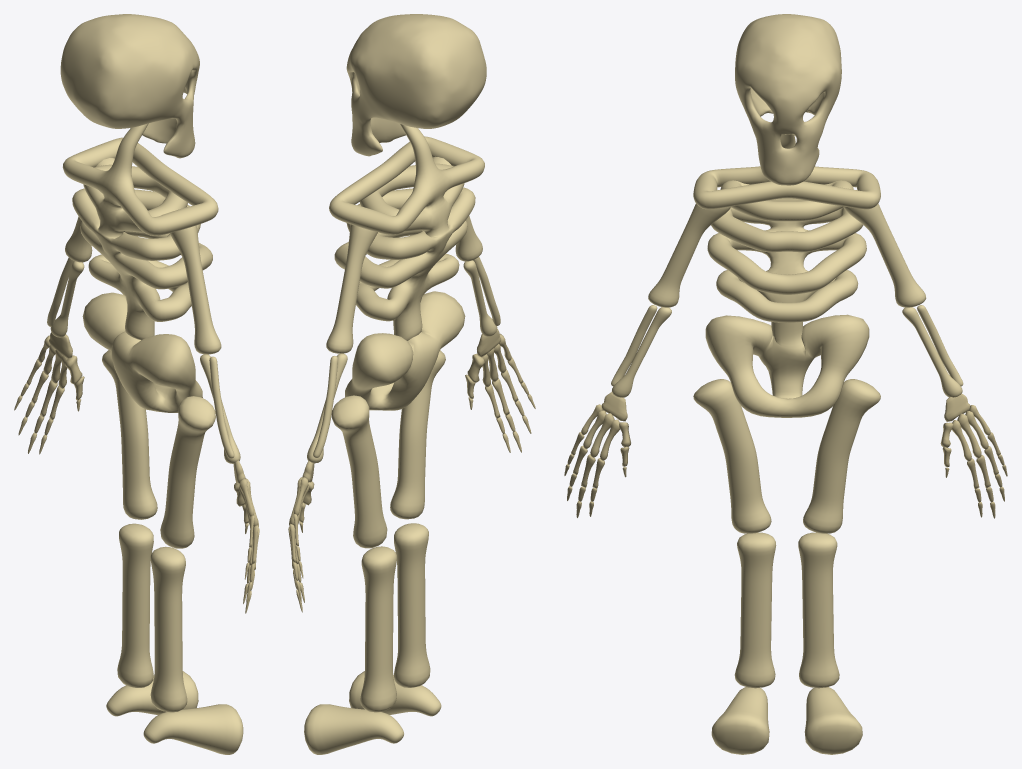
File: mySkeletonDead.fbx
The picture shows the model from 3 angles, left to right: view 1: azimuth 30°, elevation 25°; view 2: azimuth 150°, elevation 25°; view 3: azimuth 270°, elevation 25°; orthographic projection. The views are drawn at different scales.
Parts seen in each view (by area): view 1: Body, Skull, RLeg, LLeg, Rarm, LArm; view 2: Body, Skull, LLeg, RLeg, LArm, Rarm; view 3: Body, Skull, RLeg, LLeg, LArm, Rarm.
Boxes of the visible parts, left/top/right/bottom form: Body: left=62, top=123, right=218, bottom=412; Skull: left=60, top=14, right=199, bottom=158; RLeg: left=143, top=396, right=243, bottom=754; LLeg: left=102, top=350, right=198, bottom=716; Rarm: left=170, top=225, right=259, bottom=613; LArm: left=14, top=158, right=114, bottom=454; Body: left=329, top=124, right=484, bottom=410; Skull: left=346, top=14, right=486, bottom=156; LLeg: left=304, top=395, right=403, bottom=754; RLeg: left=349, top=350, right=445, bottom=716; LArm: left=288, top=224, right=377, bottom=612; Rarm: left=433, top=156, right=535, bottom=452; Body: left=693, top=134, right=880, bottom=417; Skull: left=735, top=14, right=841, bottom=185; RLeg: left=693, top=379, right=776, bottom=754; LLeg: left=798, top=379, right=880, bottom=754; LArm: left=843, top=189, right=1007, bottom=518; Rarm: left=564, top=189, right=730, bottom=517.
Bounding box in the file's own units: 295 × 1491 × 856.
